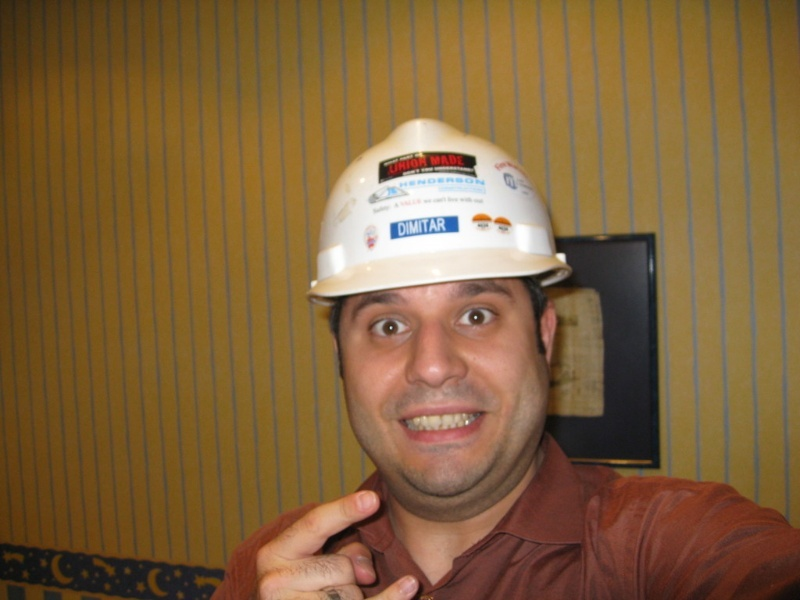baret: (308, 118, 573, 311)
